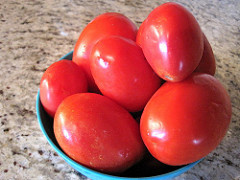tomato: (143, 76, 230, 164), (74, 12, 156, 95), (55, 96, 140, 169), (136, 1, 203, 76), (37, 58, 87, 107)
